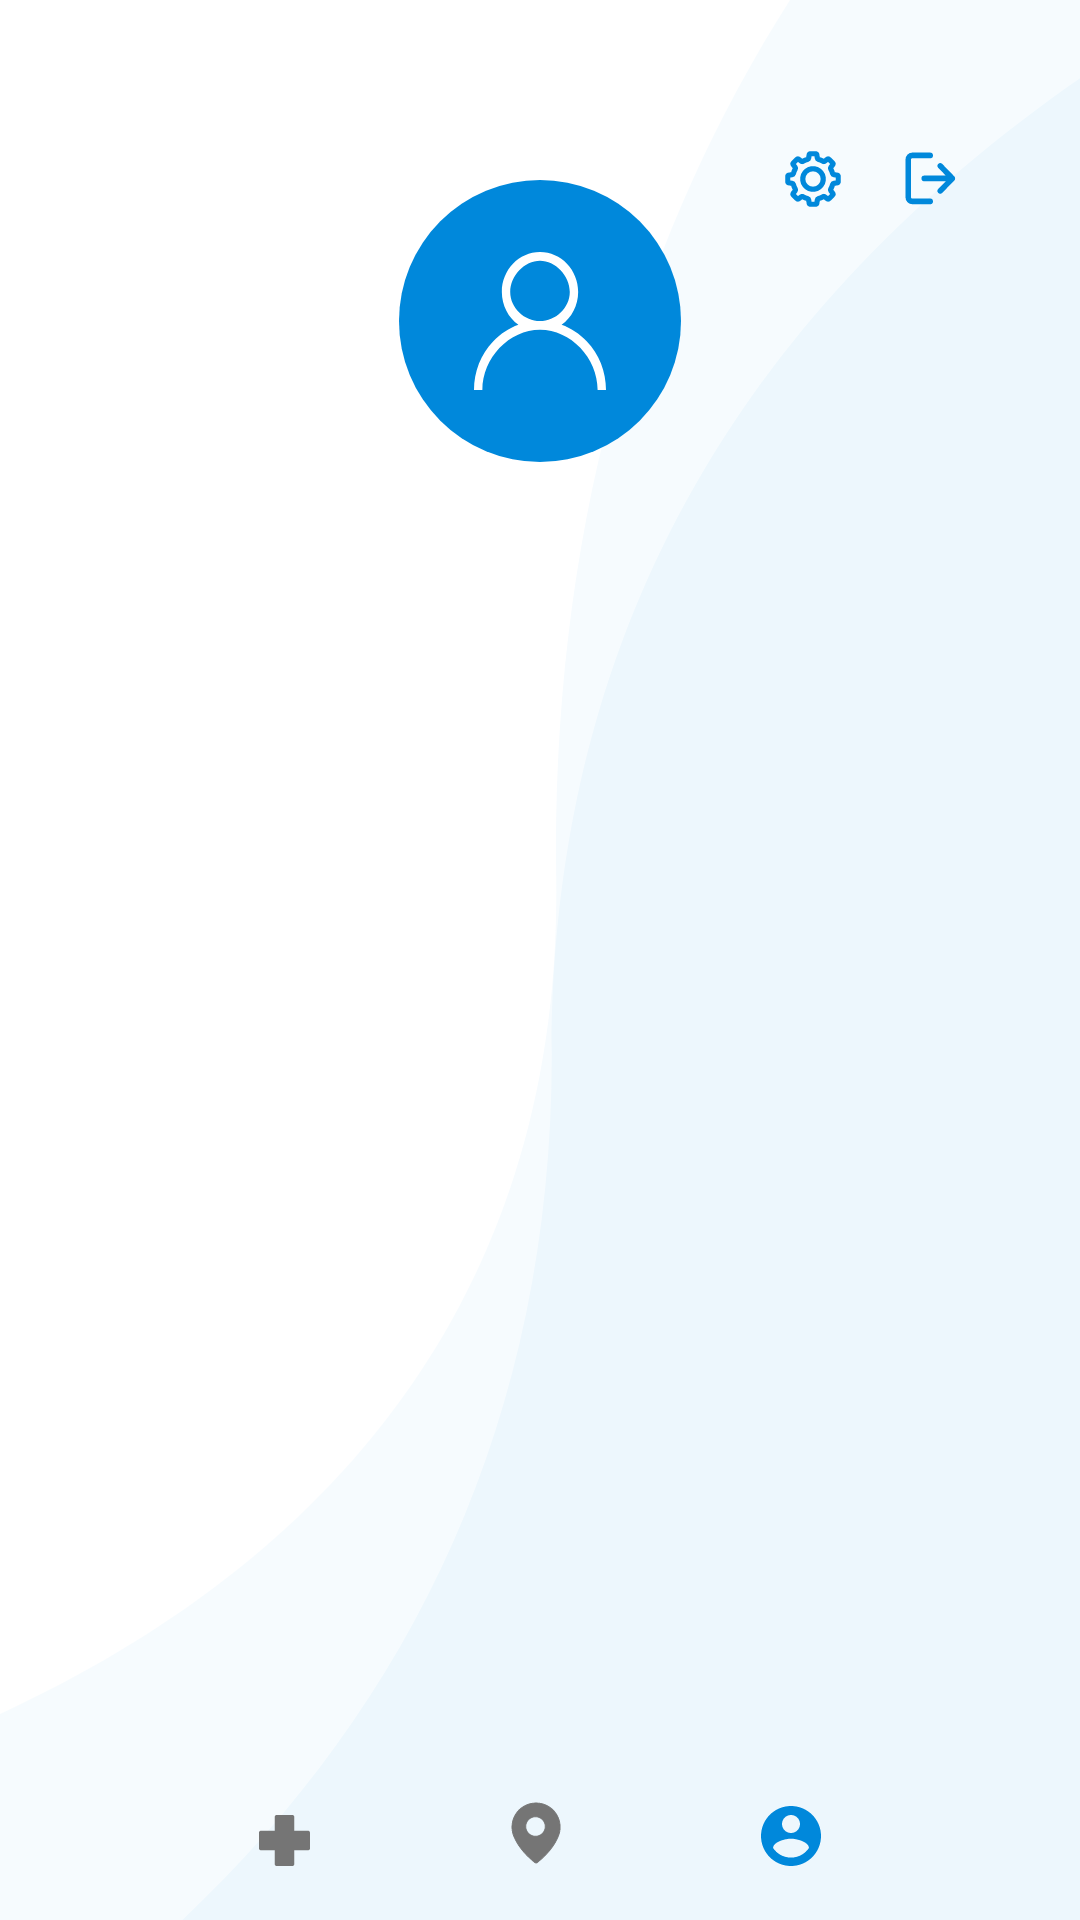

Named icons in this screenshot (1080w x 1920h) and their centers, point (x, y):
exit: point (930, 178)
setting: point (813, 179)
